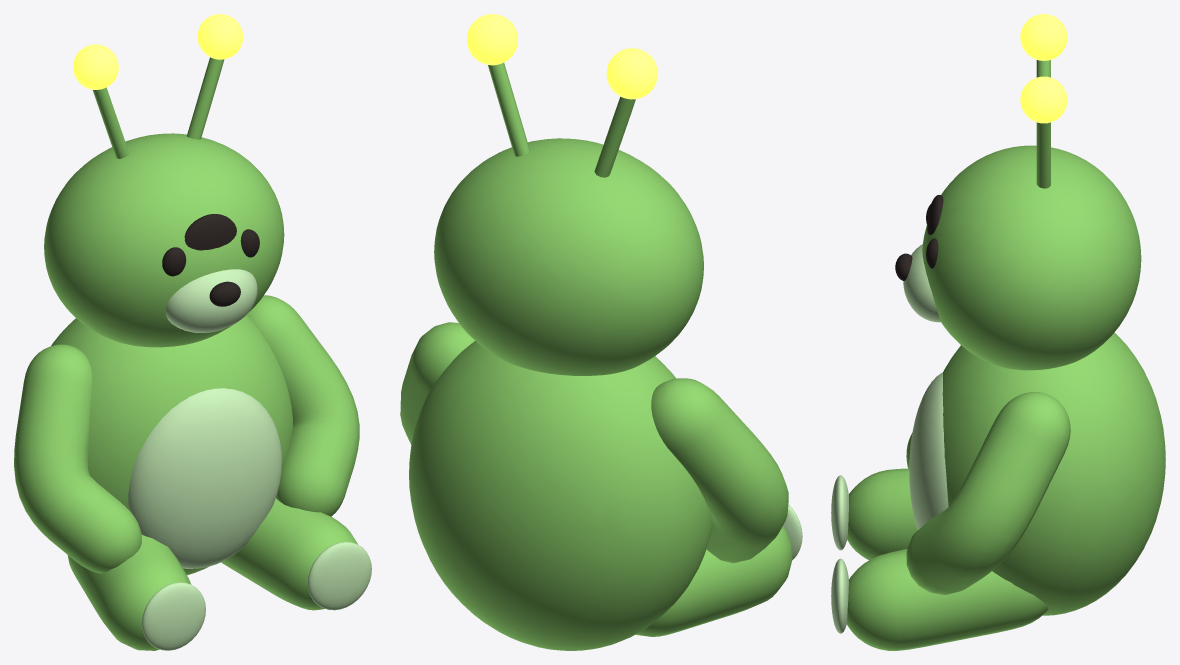
Rendered from deco_alien.glb.
3 views of the same model, side by side, from view 1: azimuth 30°, elevation 25°; view 2: azimuth 150°, elevation 25°; view 3: azimuth 270°, elevation 25° (orthographic). The views are drawn at different scales.
Visible parts, largest first — view 1: cabeza alien.001, barriga alien.001, panza alien.001, brazo.022, brazo.023, pierna.023, pierna.022, hocico.011, planta pata.022, planta pata.023, bolita antena -1.001, bolita antena 1.001 (+5 smaller); view 2: panza alien.001, cabeza alien.001, brazo.022, pierna.022, brazo.023, bolita antena -1.001, bolita antena 1.001, antena 1.001, antena -1.001, planta pata.022; view 3: cabeza alien.001, panza alien.001, brazo.023, pierna.023, pierna.022, barriga alien.001, bolita antena 1.001, bolita antena -1.001, hocico.011, planta pata.022, planta pata.023, antena 1.001.
Boxes of the visible parts, x1,y1,x2,y2 form: cabeza alien.001: [44, 133, 284, 347]; barriga alien.001: [128, 388, 281, 568]; panza alien.001: [51, 314, 292, 575]; brazo.022: [14, 344, 141, 573]; brazo.023: [247, 295, 359, 516]; pierna.023: [221, 498, 357, 610]; pierna.022: [67, 535, 191, 650]; hocico.011: [165, 269, 257, 332]; planta pata.022: [142, 582, 205, 650]; planta pata.023: [308, 542, 371, 610]; bolita antena -1.001: [73, 44, 118, 89]; bolita antena 1.001: [197, 14, 243, 59]; panza alien.001: [409, 341, 712, 650]; cabeza alien.001: [434, 138, 703, 375]; brazo.022: [651, 378, 788, 563]; pierna.022: [635, 526, 792, 636]; brazo.023: [400, 322, 474, 444]; bolita antena -1.001: [606, 48, 657, 99]; bolita antena 1.001: [466, 14, 517, 65]; antena 1.001: [488, 62, 529, 156]; antena -1.001: [594, 96, 635, 177]; planta pata.022: [783, 504, 802, 559]; cabeza alien.001: [922, 145, 1141, 370]; panza alien.001: [942, 332, 1165, 615]; brazo.023: [906, 392, 1070, 594]; pierna.023: [847, 549, 1048, 650]; pierna.022: [847, 468, 917, 560]; barriga alien.001: [909, 372, 948, 529]; bolita antena 1.001: [1020, 76, 1067, 123]; bolita antena -1.001: [1020, 14, 1067, 60]; hocico.011: [903, 244, 940, 322]; planta pata.022: [831, 475, 848, 550]; planta pata.023: [831, 558, 848, 633]; antena 1.001: [1036, 122, 1050, 188].
Bounding box in the file's own units: 0.3188 × 0.4991 × 0.2716.
